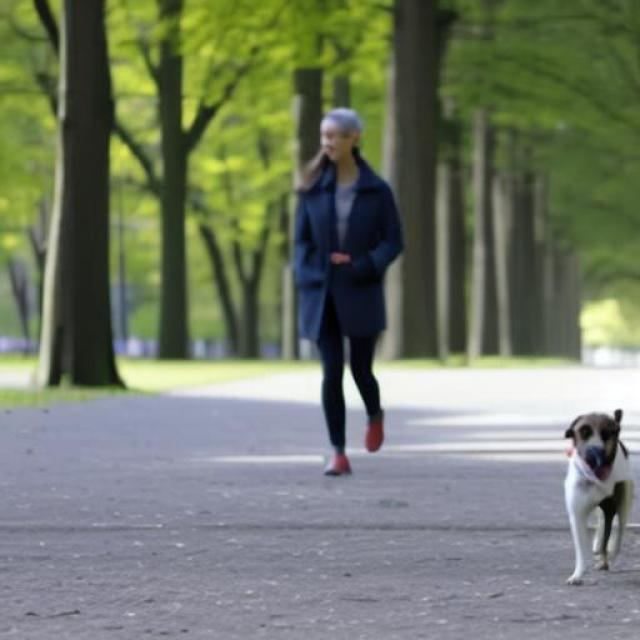Unleashed_Dog: (305, 253, 633, 585)
